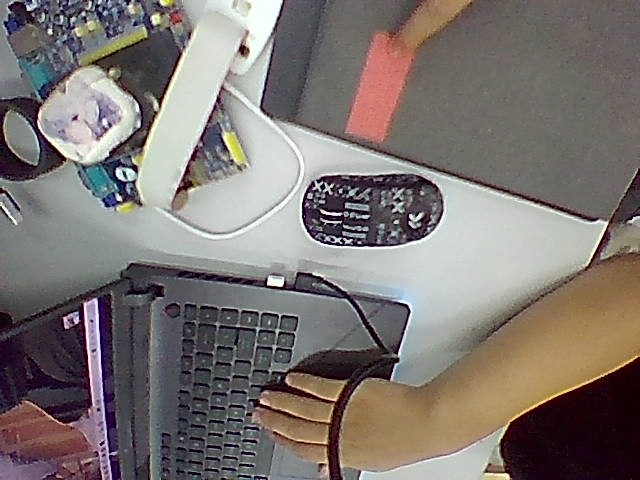card: (345, 32, 414, 143)
